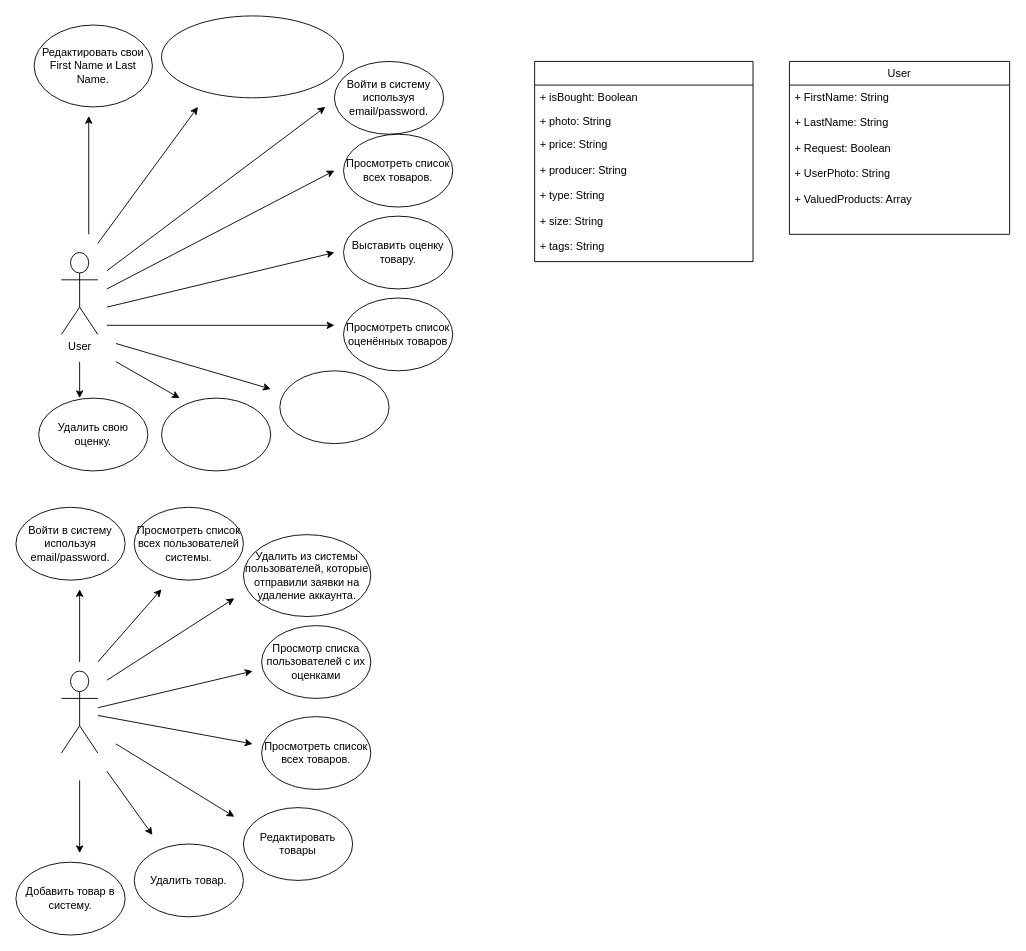
This 1026x951 diagram has some shape labels left out. Each missing label, with the box of its shape:
Admin: (61, 670, 98, 753)
Product: (534, 61, 753, 262)
Отправить администратору заявку на удаление аккаунта.: (161, 397, 271, 471)
Поиск товаров по тегу: (279, 370, 389, 444)
Создать аккаунт. На один email можно зарегистрировать только один аккаунт.: (161, 15, 344, 98)
